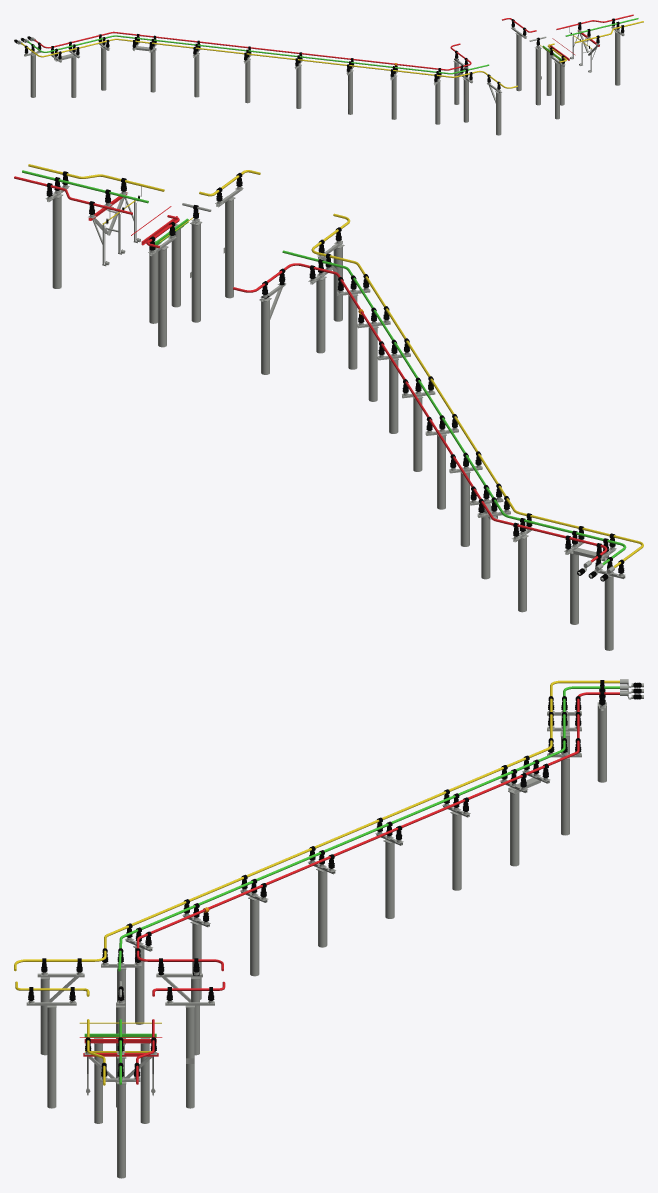
3 views of the same model, one above another, from view 1: azimuth 30°, elevation 25°; view 2: azimuth 150°, elevation 25°; view 3: azimuth 270°, elevation 25° (orthographic). The views are drawn at different scales.
Visible parts, largest first — view 1: 对象12166.405; view 2: 对象12166.405; view 3: 对象12166.405.
Boxes of the visible parts, box(x1,y1,x2,y2) form: 对象12166.405: box(14, 14, 643, 135); 对象12166.405: box(14, 164, 643, 650); 对象12166.405: box(14, 679, 643, 1178).
Size of the model in its own units: 36.66 by 4.84 by 23.13.
